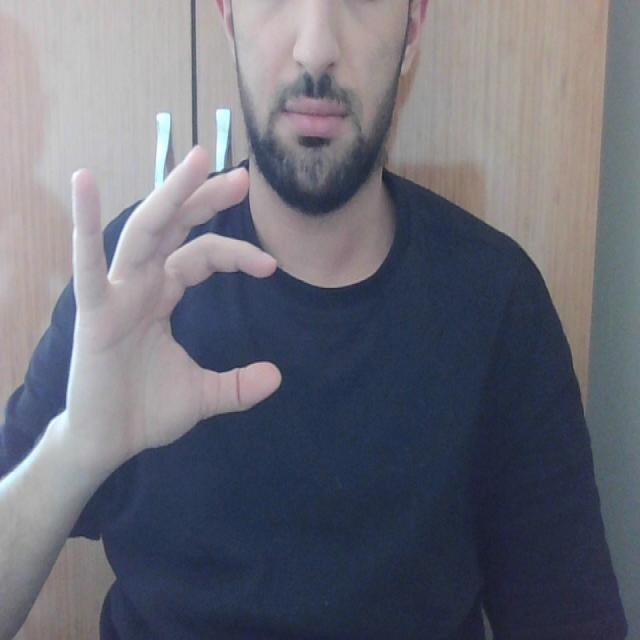Tuvalet: (40, 123, 282, 460)
